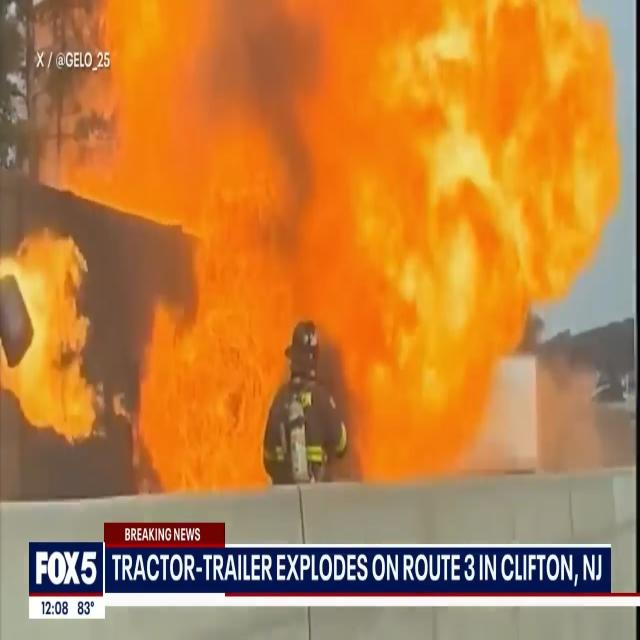fire: (103, 2, 617, 478), (1, 234, 103, 442)
